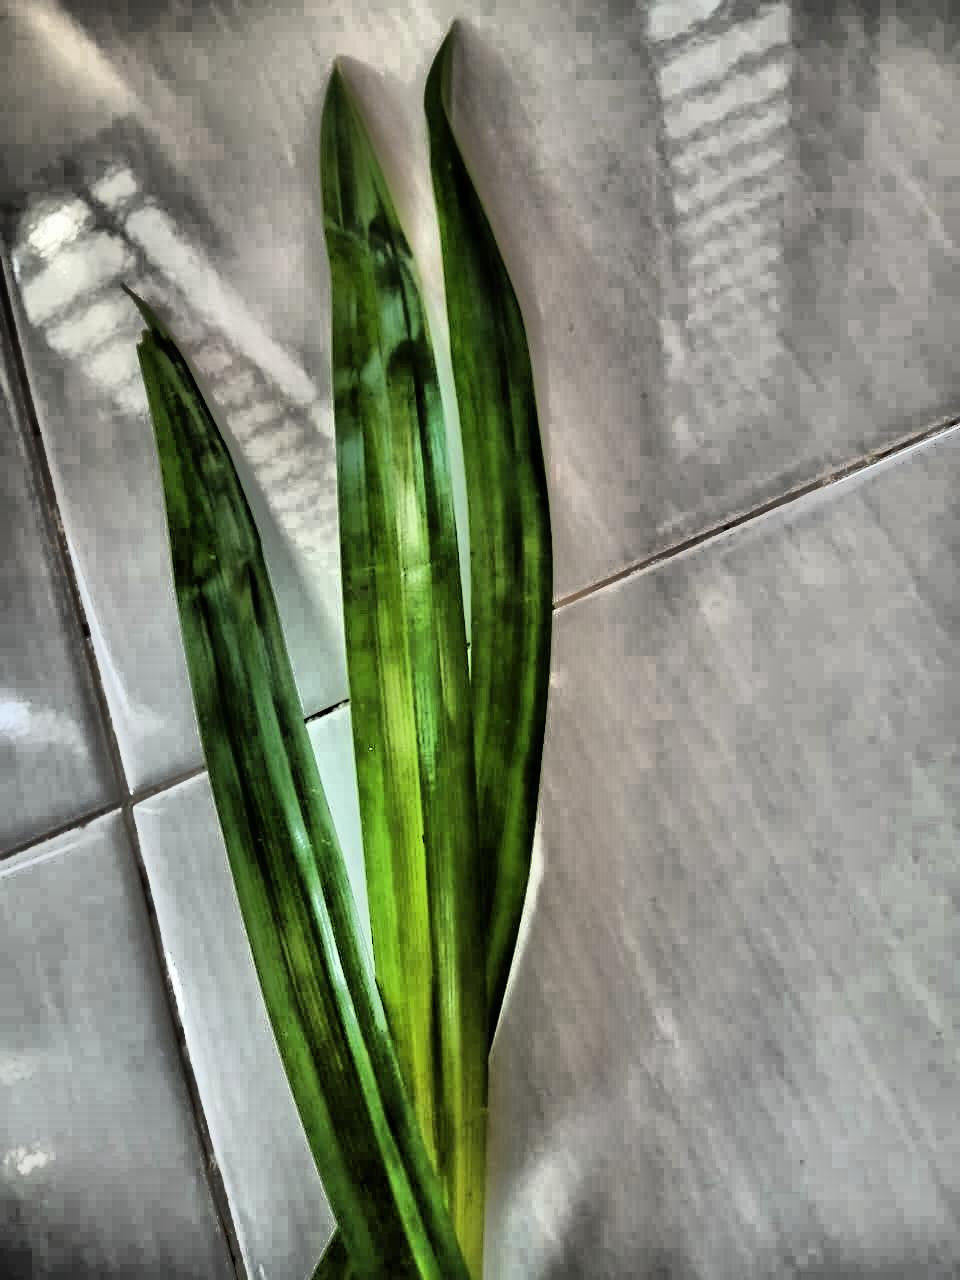daun pandan: (131, 35, 552, 1279)
